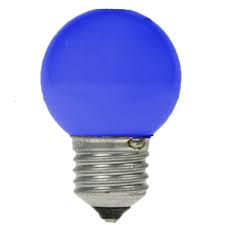blue ball: (39, 8, 182, 137)
